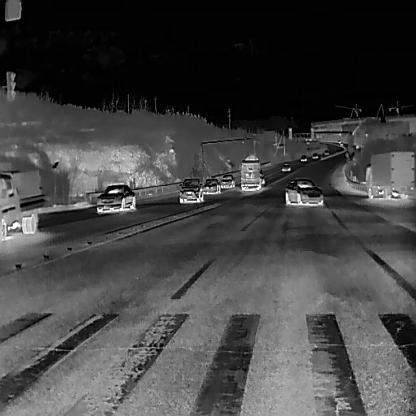car: (0, 168, 45, 239), (364, 149, 416, 199), (96, 183, 135, 214), (283, 177, 323, 206), (237, 153, 261, 191), (178, 177, 204, 203), (202, 177, 220, 194), (220, 173, 235, 188), (280, 160, 290, 172), (258, 172, 265, 184), (299, 154, 306, 162), (311, 151, 317, 159), (354, 142, 359, 149), (334, 147, 339, 153), (323, 149, 329, 154), (339, 142, 343, 146), (337, 139, 340, 142)
